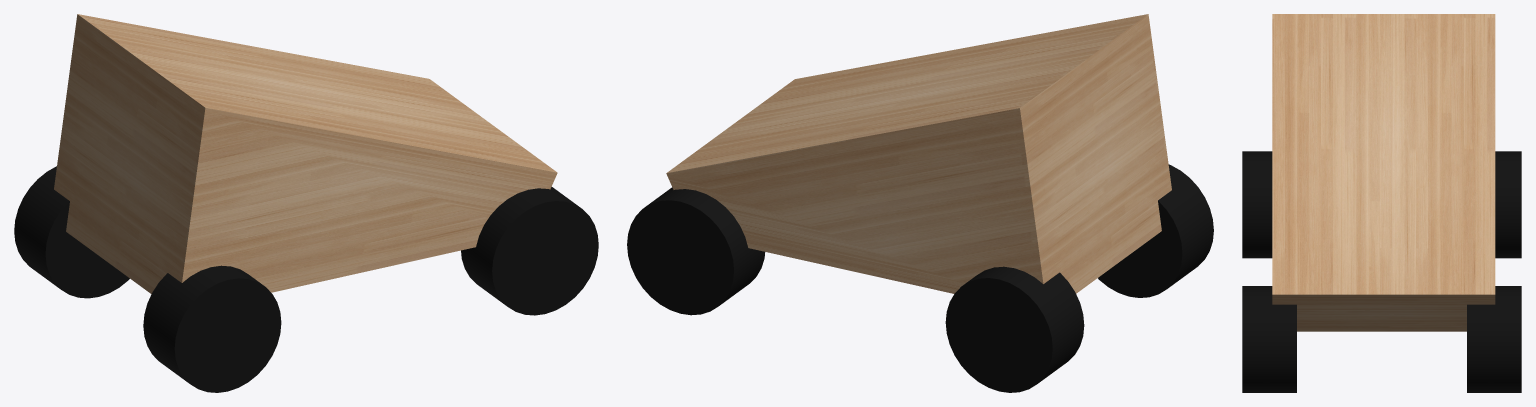
File: car.obj
3 renders of one model, left to right at view 1: azimuth 30°, elevation 25°; view 2: azimuth 150°, elevation 25°; view 3: azimuth 270°, elevation 25°, orthographic. The views are drawn at different scales.
Visible parts, largest first — view 1: Body, Wheels; view 2: Body, Wheels; view 3: Body, Wheels.
Part boxes in pixels (bbox=[...]): Body: bbox=[54, 14, 557, 293]; Wheels: bbox=[14, 166, 598, 392]; Body: bbox=[666, 14, 1171, 293]; Wheels: bbox=[627, 164, 1213, 392]; Body: bbox=[1272, 14, 1495, 331]; Wheels: bbox=[1242, 151, 1521, 392].
Bounding box in the file's own units: 1.06 × 0.6525 × 0.6966.
